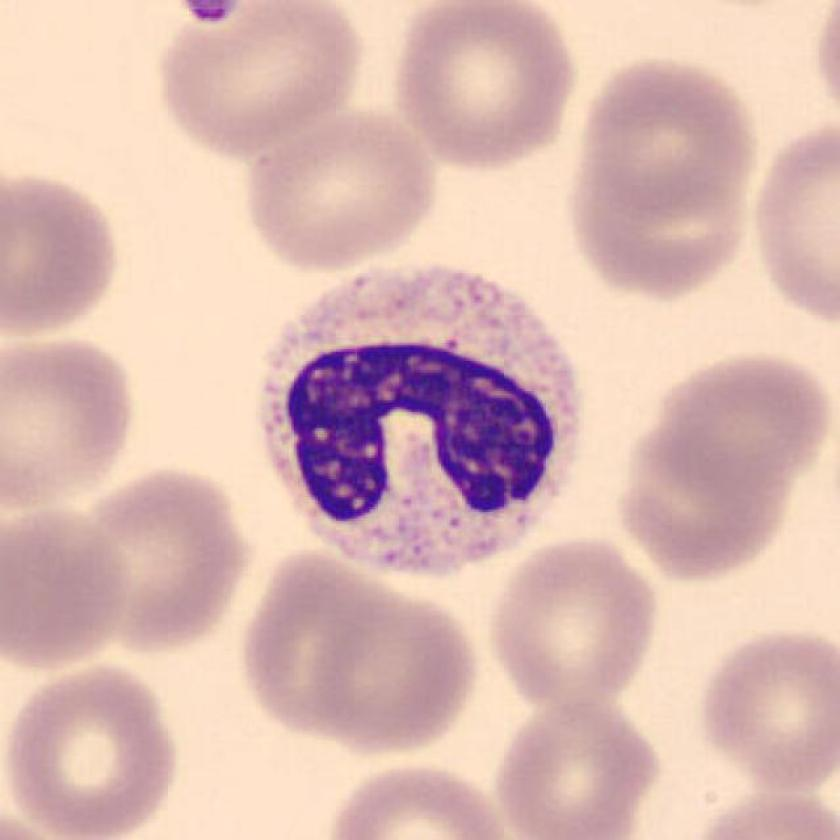neutrophil: (260, 269, 579, 577)
